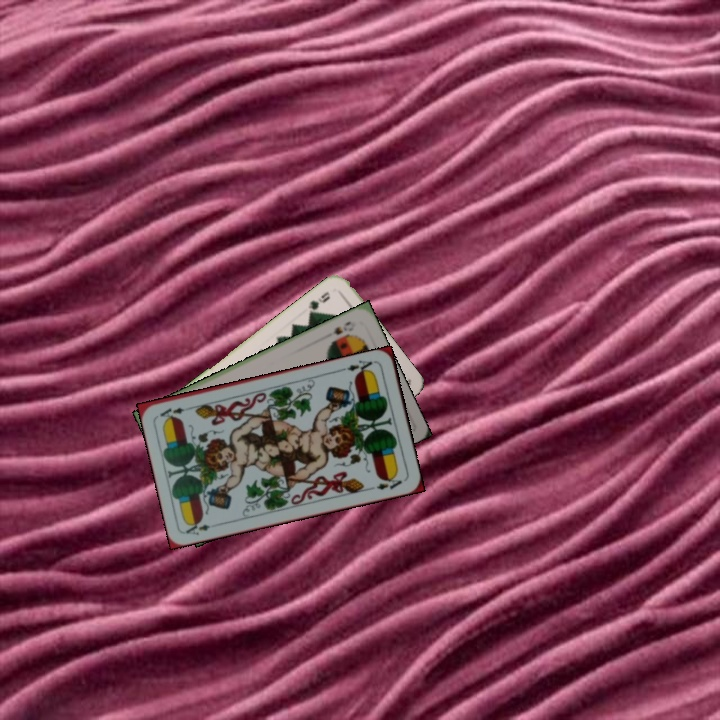EA: (338, 356, 375, 377), (182, 517, 213, 537)
G9: (304, 287, 333, 319)
SO: (322, 317, 353, 341)
